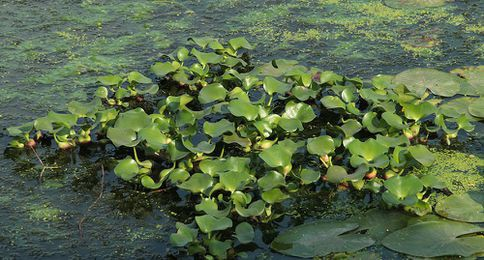water_hyacinth: (9, 32, 477, 260)
